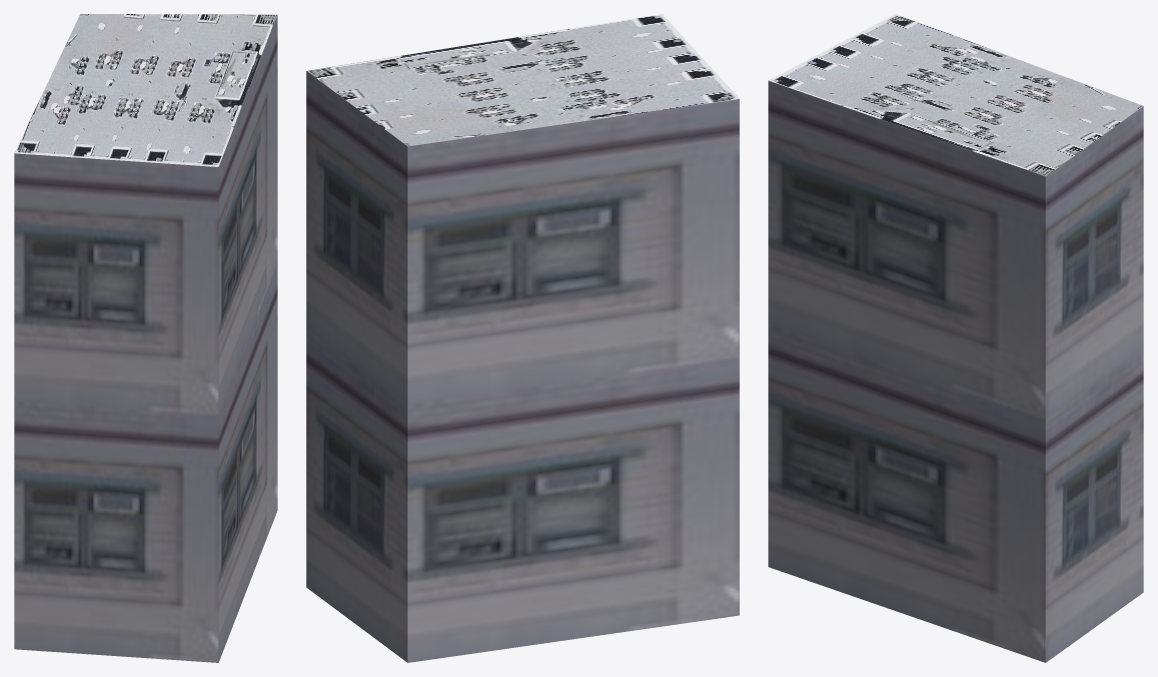
Rendered from ResTex__3551.fbx.
The picture shows the model from 3 angles, left to right: view 1: azimuth 30°, elevation 25°; view 2: azimuth 150°, elevation 25°; view 3: azimuth 270°, elevation 25°; orthographic projection. The views are drawn at different scales.
Parts seen in each view (by area): view 1: CityEngineMaterial_1_m, CityEngineMaterial_4_m; view 2: CityEngineMaterial_1_m, CityEngineMaterial_4_m; view 3: CityEngineMaterial_1_m, CityEngineMaterial_4_m.
Boxes of the visible parts, left/top/right/bottom form: CityEngineMaterial_1_m: left=14, top=15, right=277, bottom=662; CityEngineMaterial_4_m: left=14, top=14, right=277, bottom=166; CityEngineMaterial_1_m: left=306, top=71, right=739, bottom=662; CityEngineMaterial_4_m: left=307, top=14, right=739, bottom=146; CityEngineMaterial_1_m: left=768, top=81, right=1143, bottom=662; CityEngineMaterial_4_m: left=768, top=14, right=1143, bottom=176.
Bounding box in the file's own units: 4.3 × 6 × 4.2.
Materials: 2 (2 with a texture image).
